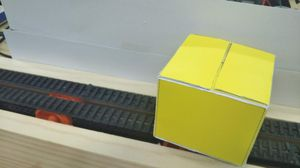box4: (150, 31, 276, 168)
